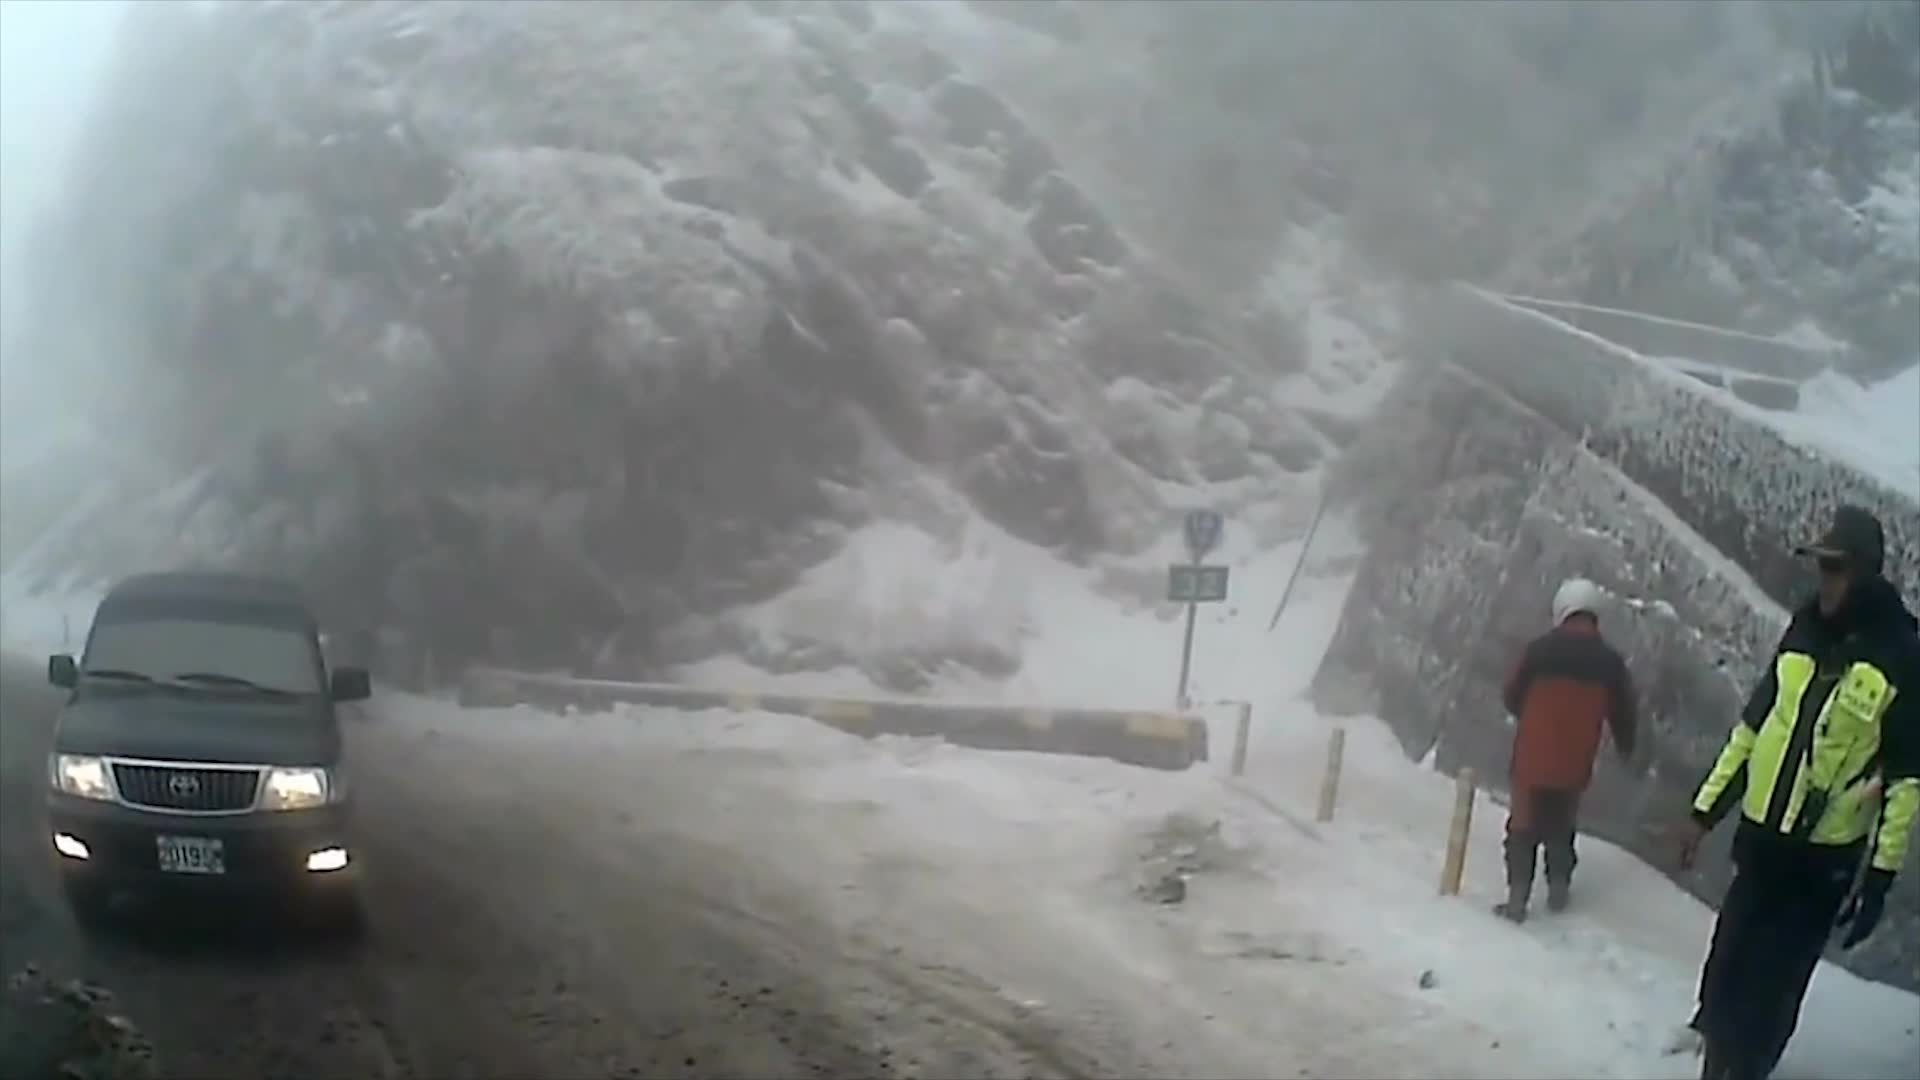pedestrian: (1651, 514, 1920, 1080), (1489, 566, 1643, 921)
vehicle: (43, 572, 373, 942)
